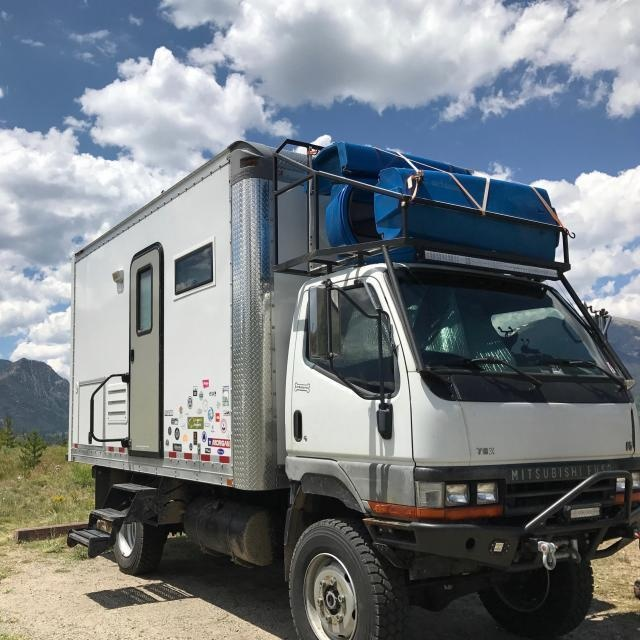Truck: (68, 125, 640, 640)
